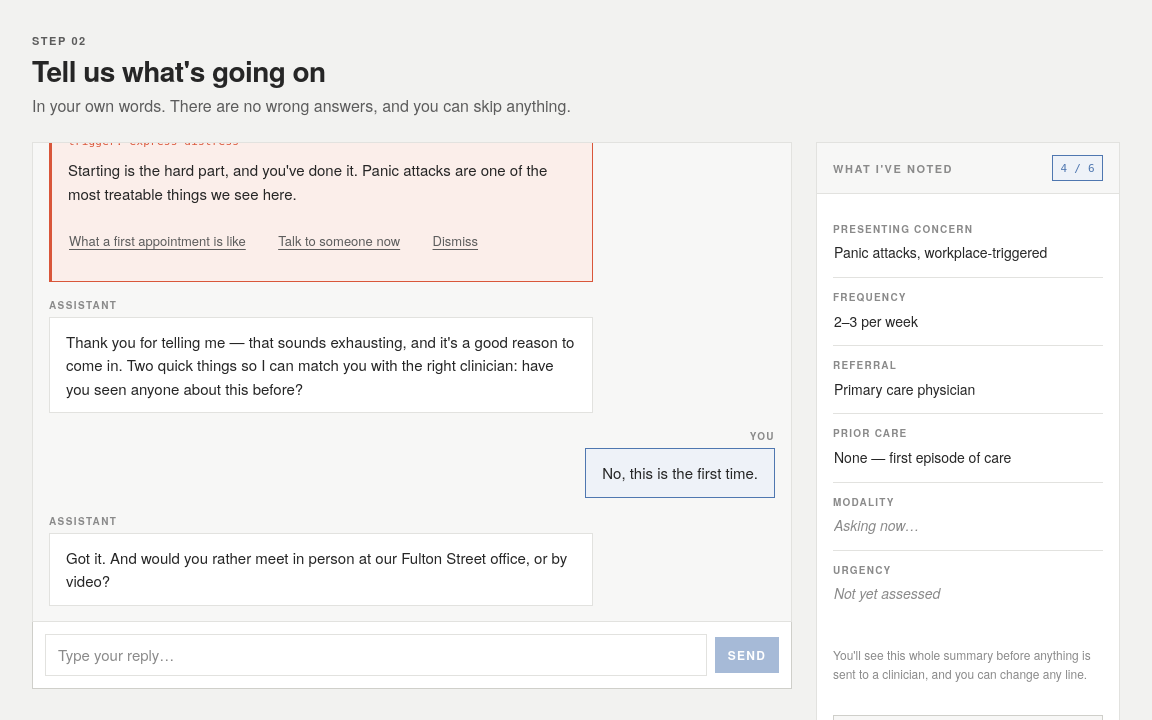
assessment screen › appends the user's message and the assistant's reply
The image size is (1152, 720).
(page scrolled)
In the field labelled "your reply": (376,655) x1=45 y1=634 x2=707 y2=676, type "Video, please."
Then press Enter
Wait 600 ms
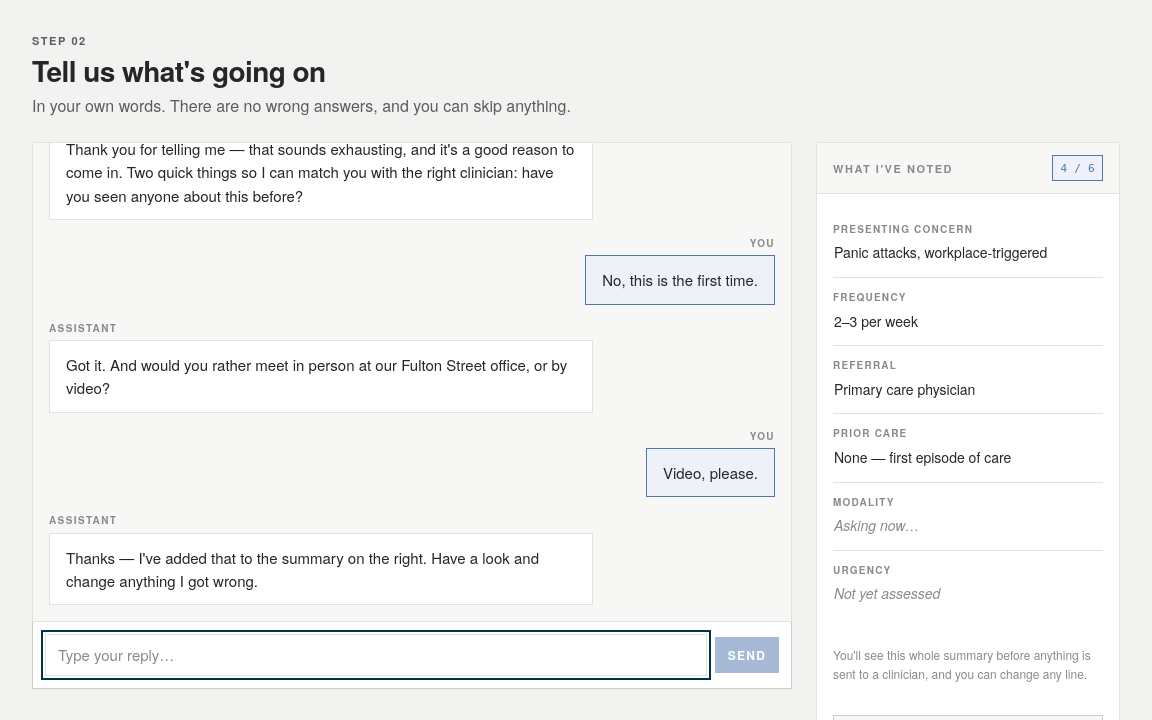
Expected: the text "Video, please." is shown, x1=646 y1=448 x2=775 y2=498
Expected: the text "added that to the summary on the right" is shown, x1=66 y1=547 x2=539 y2=591
